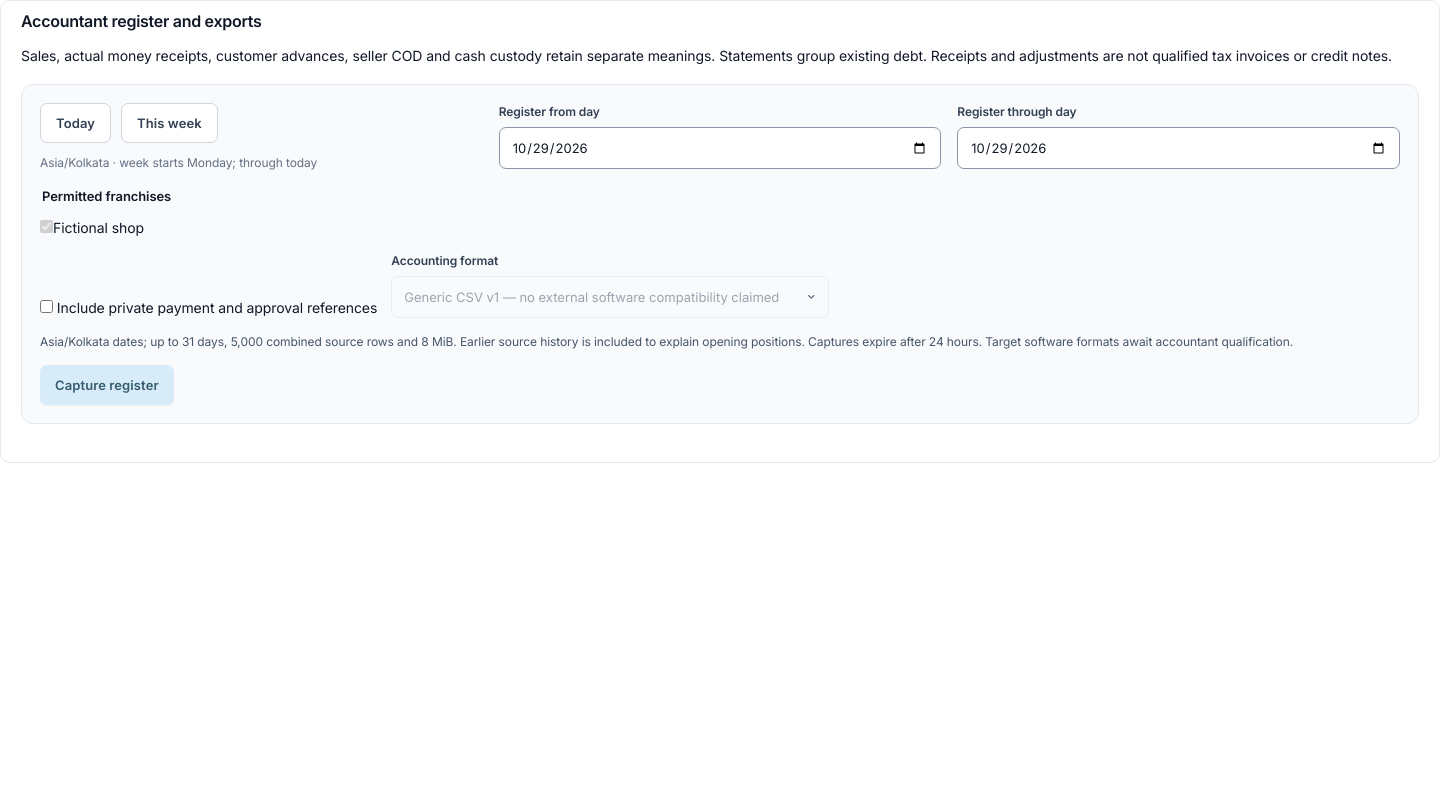
Test case: accountant register workflow › retries the exact uncertain intent while preserving disabled inputs and read-only export
Click the button "Capture register": (107, 385) [40, 365, 174, 405]
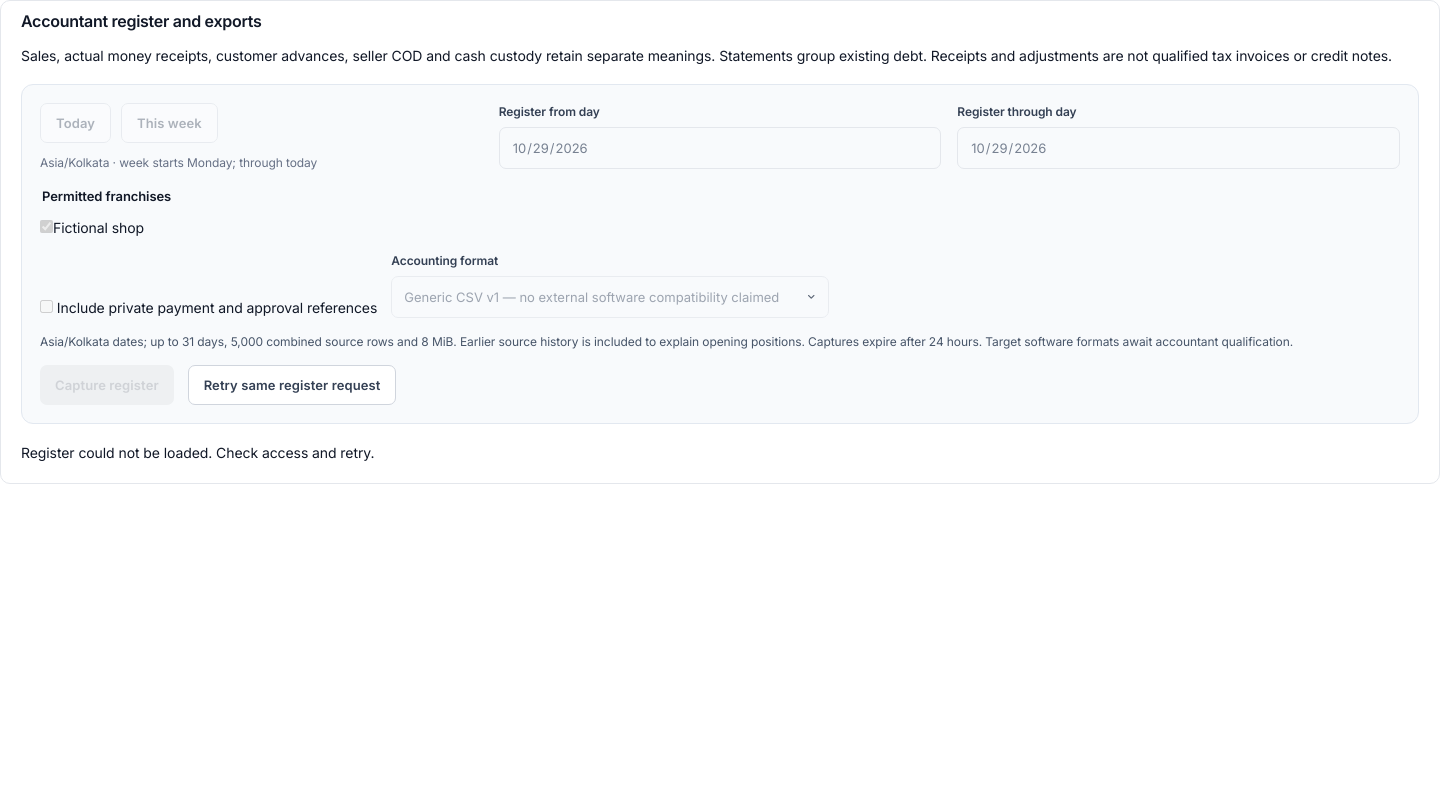
expect the date field labelled "Register from day" is disabled: met, box [499, 127, 941, 169]
Click the button "Retry same register request": (292, 385) [188, 365, 396, 405]
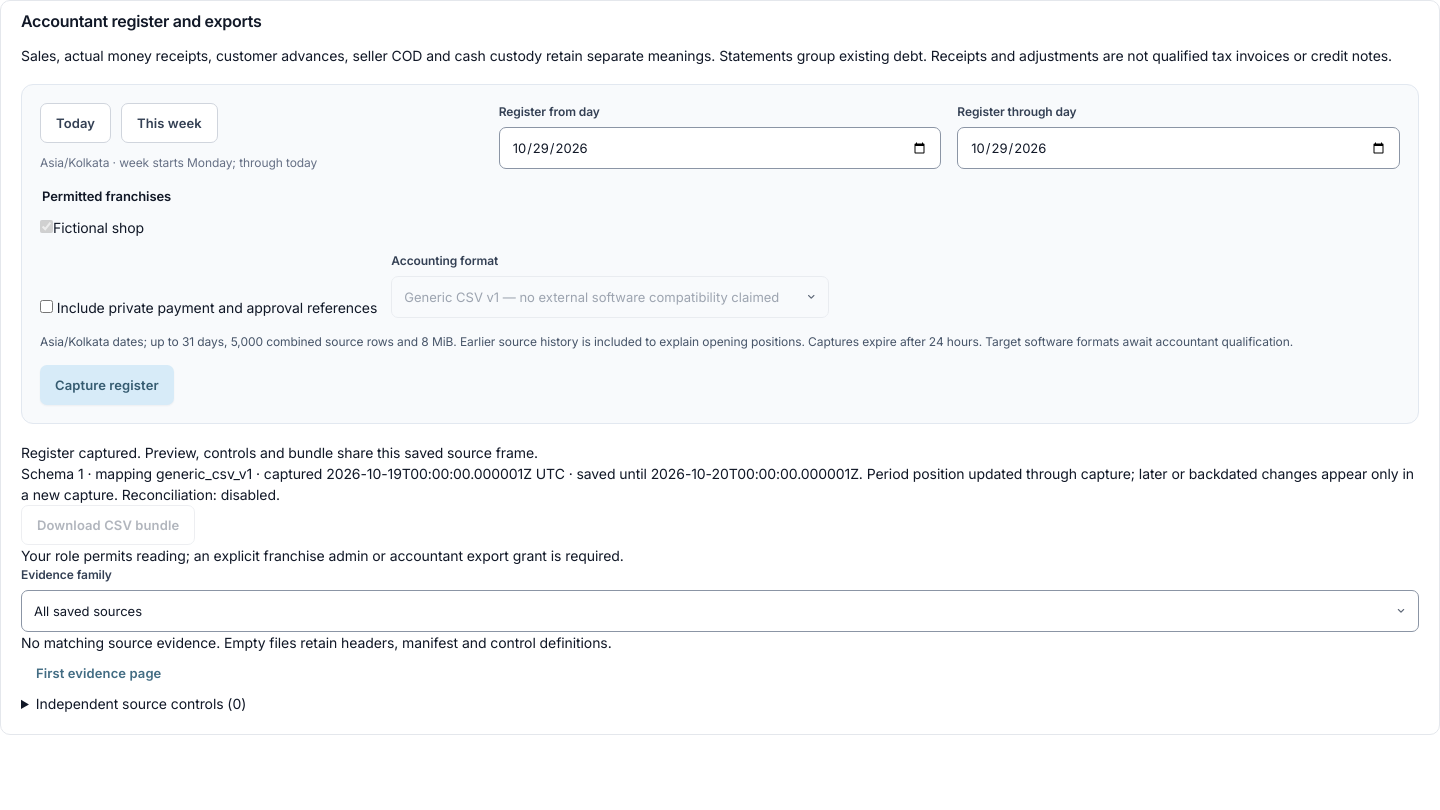
expect the text "No matching source evidence" is shown: met, box [21, 634, 612, 651]
expect the button "Download CSV bundle" is disabled: met, box [21, 505, 195, 545]
